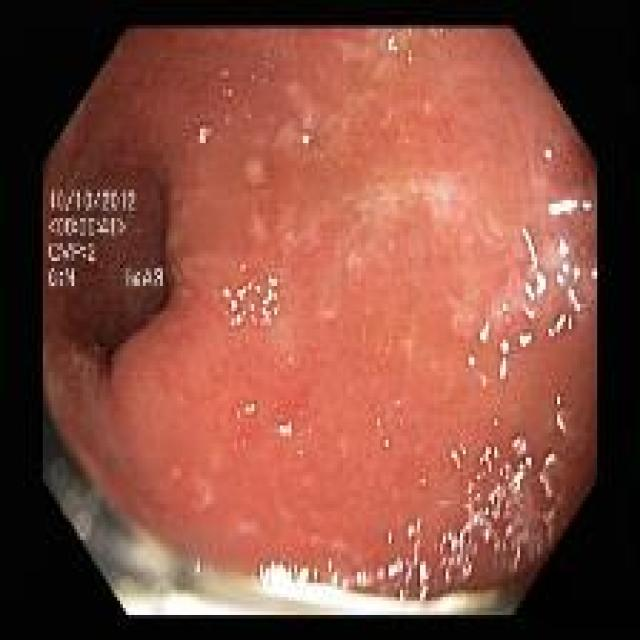ulcerative-colitis: (44, 28, 596, 615)
